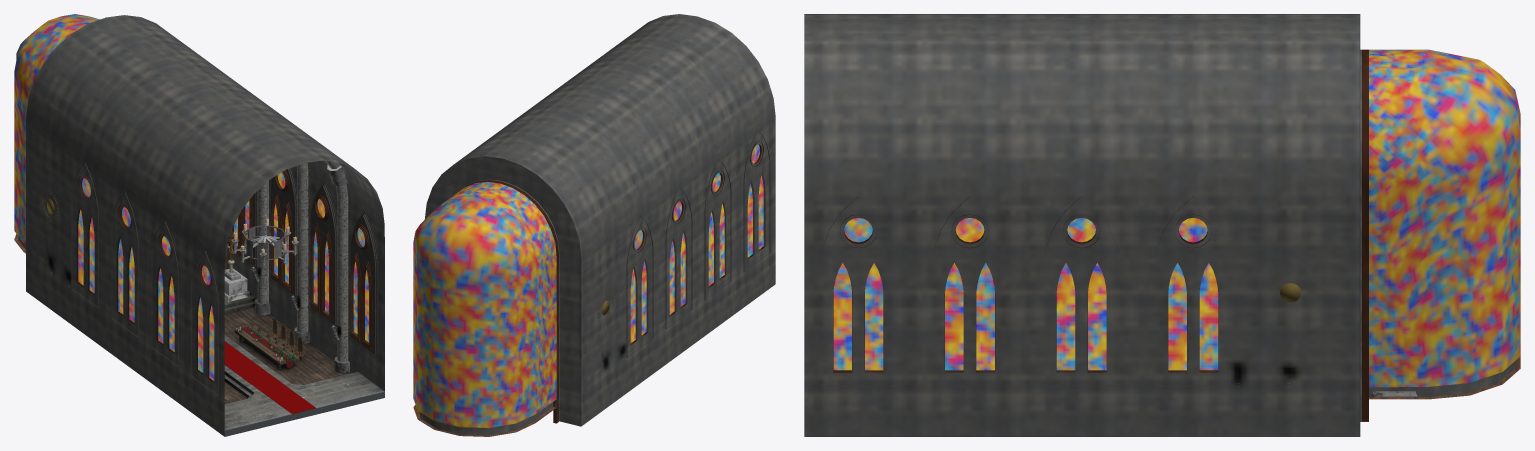
Rendered from throne.glb.
The picture shows the model from 3 angles, left to right: view 1: azimuth 30°, elevation 25°; view 2: azimuth 150°, elevation 25°; view 3: azimuth 270°, elevation 25°; orthographic projection. The views are drawn at different scales.
Parts seen in each view (by area): view 1: Wall_Base.002_Wall_Base_0, Windows.004_Windows.004_0, BaseGround.001_BaseGround.001_0, Wall_Beam.002_Wall_Beam_0, Windows.005_Windows_Glass.004_0, Red_Carpet.001_RedCarpet.001_0, Chandelier.001_Chandelier.001_0, Table_Dinner.001_Table.001_0, Chair.001_Chair.001_0, Effigy_01.001_Effigy.001_0; view 2: Wall_Base.002_Wall_Base_0, Windows.004_Windows.004_0, Windows.005_Windows_Glass.004_0, BaseGround.001_BaseGround.001_0; view 3: Wall_Base.002_Wall_Base_0, Windows.005_Windows_Glass.004_0, Windows.004_Windows.004_0.
Boxes of the visible parts, x1,y1,x2,y2 form: Wall_Base.002_Wall_Base_0: (14, 14, 384, 436); Windows.004_Windows.004_0: (71, 163, 378, 395); BaseGround.001_BaseGround.001_0: (14, 234, 384, 436); Wall_Beam.002_Wall_Beam_0: (255, 161, 349, 373); Windows.005_Windows_Glass.004_0: (78, 172, 368, 380); Red_Carpet.001_RedCarpet.001_0: (224, 341, 315, 413); Chandelier.001_Chandelier.001_0: (231, 183, 298, 267); Table_Dinner.001_Table.001_0: (224, 325, 299, 378); Chair.001_Chair.001_0: (264, 319, 304, 359); Effigy_01.001_Effigy.001_0: (224, 268, 250, 301); Wall_Base.002_Wall_Base_0: (413, 14, 775, 435); Windows.004_Windows.004_0: (626, 130, 770, 357); Windows.005_Windows_Glass.004_0: (630, 144, 763, 343); BaseGround.001_BaseGround.001_0: (413, 405, 555, 436); Wall_Base.002_Wall_Base_0: (804, 14, 1520, 436); Windows.005_Windows_Glass.004_0: (833, 218, 1218, 370); Windows.004_Windows.004_0: (821, 196, 1229, 386).
Bounding box in the file's own units: 13 × 19.58 × 35.73.
Materials: 21 (21 with a texture image).
